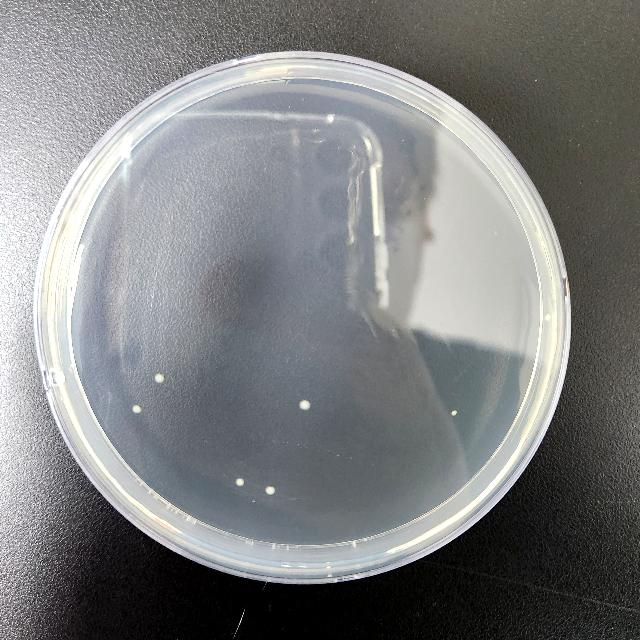colony: (132, 404, 142, 414), (265, 485, 275, 495), (155, 373, 165, 383), (300, 400, 310, 410), (236, 478, 244, 486), (545, 315, 551, 321), (452, 410, 456, 416)
